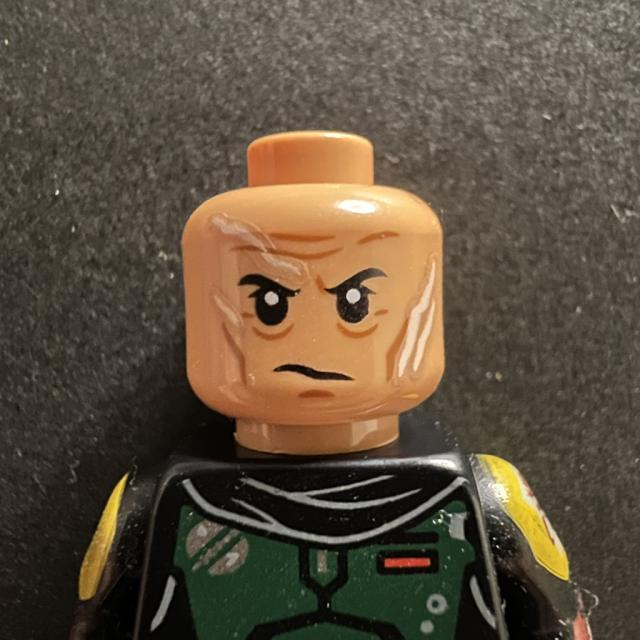lego: (178, 126, 446, 454)
